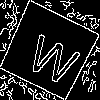W: (23, 25, 86, 87)
